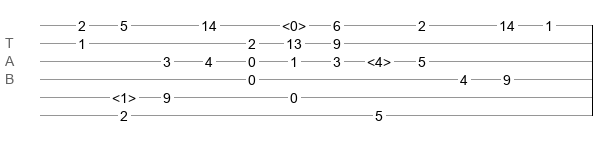0: (248, 72, 256, 82), (248, 54, 256, 64), (290, 90, 298, 100)
1: (78, 36, 86, 46), (290, 54, 298, 64), (545, 18, 553, 28)
13: (286, 36, 302, 46)
14: (201, 18, 217, 28), (499, 18, 515, 28)
2: (78, 18, 86, 28), (120, 108, 128, 118), (248, 36, 256, 46), (418, 18, 426, 28)
3: (163, 54, 171, 64), (333, 54, 341, 64)
4: (205, 54, 213, 64), (460, 72, 468, 82)
5: (120, 18, 128, 28), (375, 108, 383, 118), (418, 54, 426, 64)
6: (333, 18, 341, 28)
9: (163, 90, 171, 100), (333, 36, 341, 46), (503, 72, 511, 82)
harmonic: (112, 90, 136, 100), (282, 18, 306, 28), (367, 54, 391, 64)
